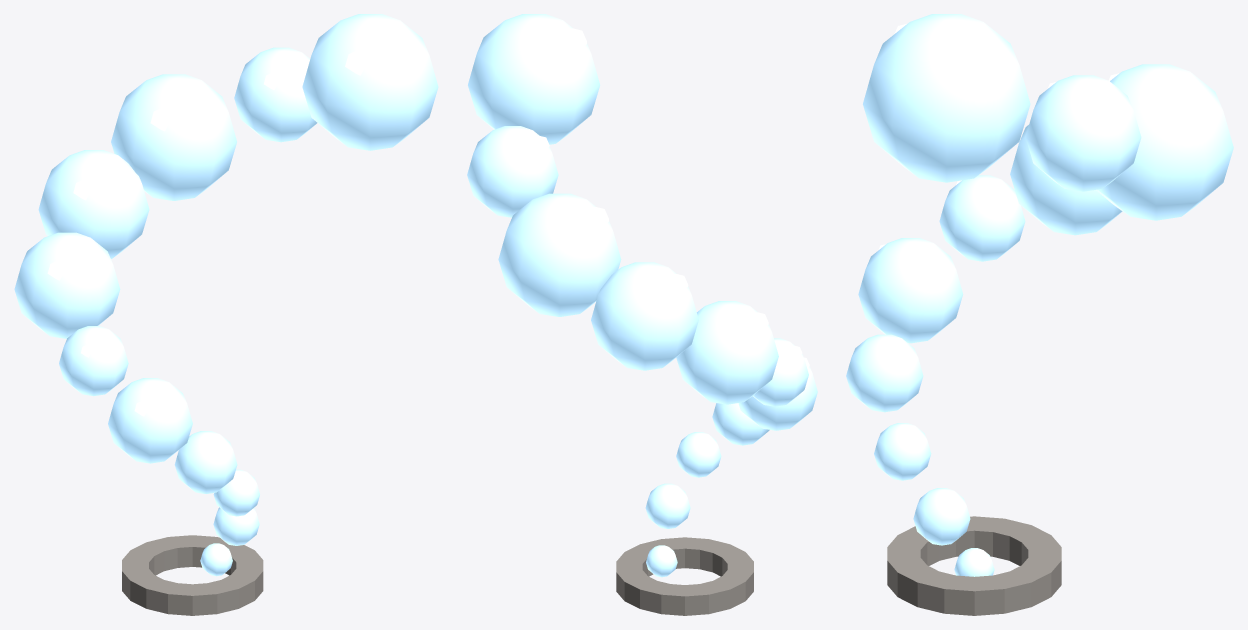
The model's file is vfx-mesh-library-bubble-cluster-474c6a2e.glb.
3 views of the same model, side by side, from view 1: azimuth 30°, elevation 25°; view 2: azimuth 150°, elevation 25°; view 3: azimuth 270°, elevation 25° (orthographic). The views are drawn at different scales.
Parts seen in each view (by area): view 1: bubble-cluster; view 2: bubble-cluster; view 3: bubble-cluster.
Part boxes in pixels (bbox=[...]): bubble-cluster: bbox=[14, 14, 438, 615]; bubble-cluster: bbox=[467, 14, 817, 615]; bubble-cluster: bbox=[846, 14, 1233, 615].
Bounding box in the file's own units: 0.7401 × 1.06 × 0.5688.
